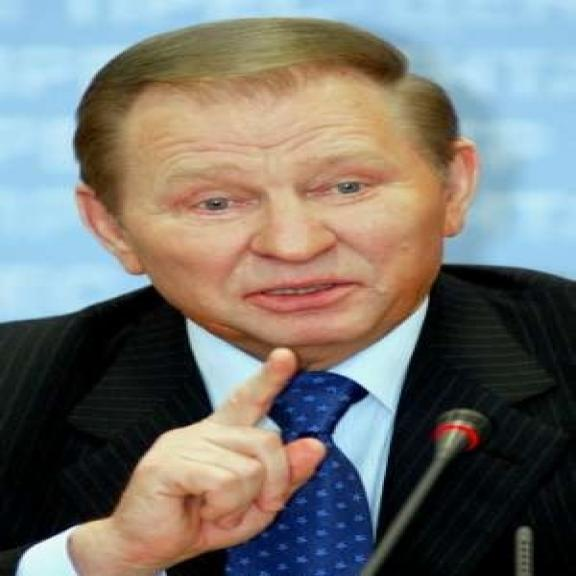face: (60, 58, 484, 353)
